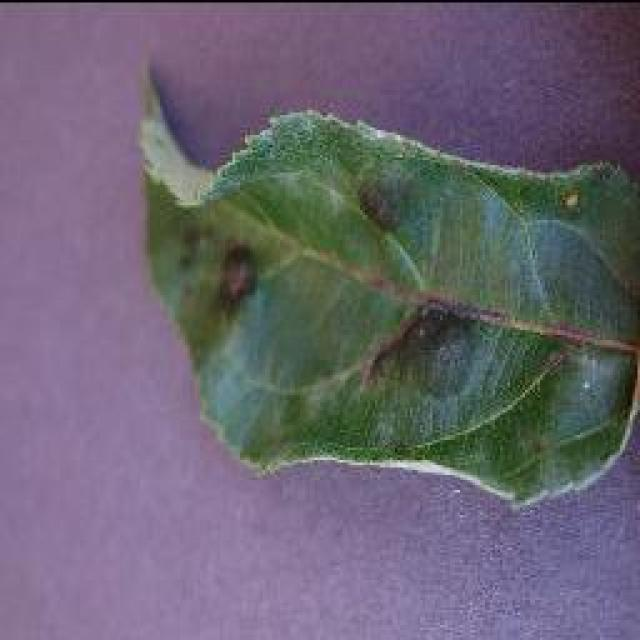apple scab disease: (135, 52, 637, 510)
